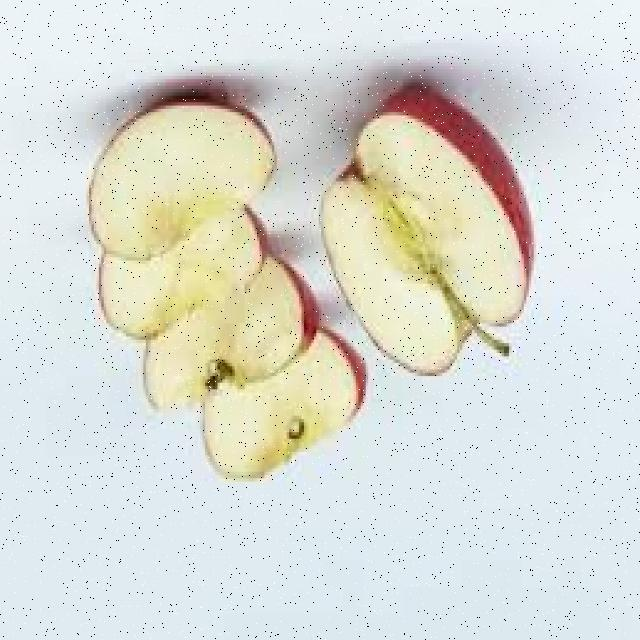Apple: (321, 93, 531, 375), (91, 87, 273, 258), (203, 348, 363, 483), (150, 298, 317, 411), (99, 227, 259, 336)
